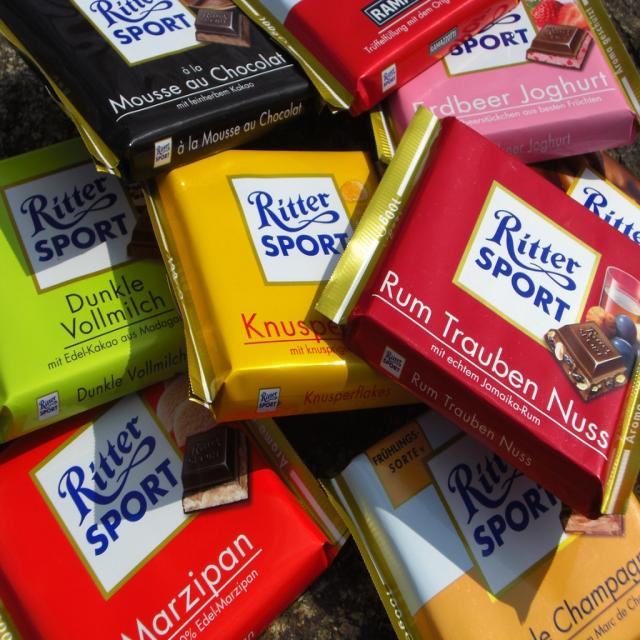rittersport: (32, 394, 209, 600), (453, 180, 603, 364), (427, 433, 590, 599), (2, 156, 151, 293), (228, 175, 358, 289), (72, 2, 214, 68), (439, 5, 553, 79), (378, 343, 411, 384), (35, 388, 65, 424), (153, 133, 176, 171), (256, 386, 284, 414), (379, 63, 401, 95)
